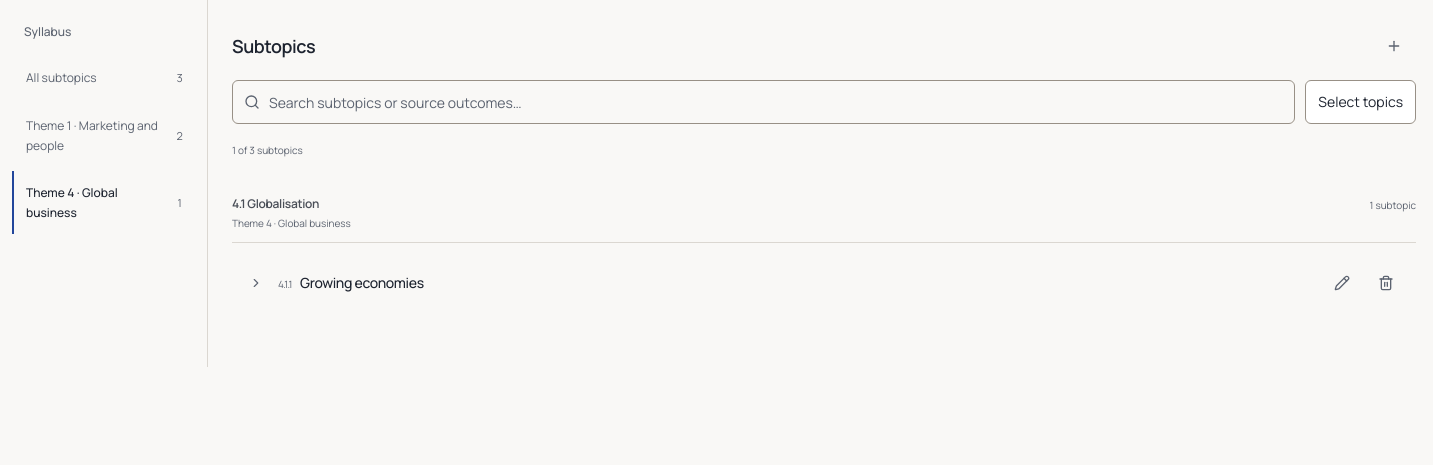
ProfileSubtopicEditor › uses the same view-only group filter in the desktop sidebar and phone select
The image size is (1433, 465).
Earlier steps of the test are not shown.
Expected: the element "Growing economies" is shown, [234,261,1408,305]
Expected: the heading "The market" is not shown
Click the button "Theme 1 · Marketing and people 2": coordinates (104, 136) [12,104,195,167]
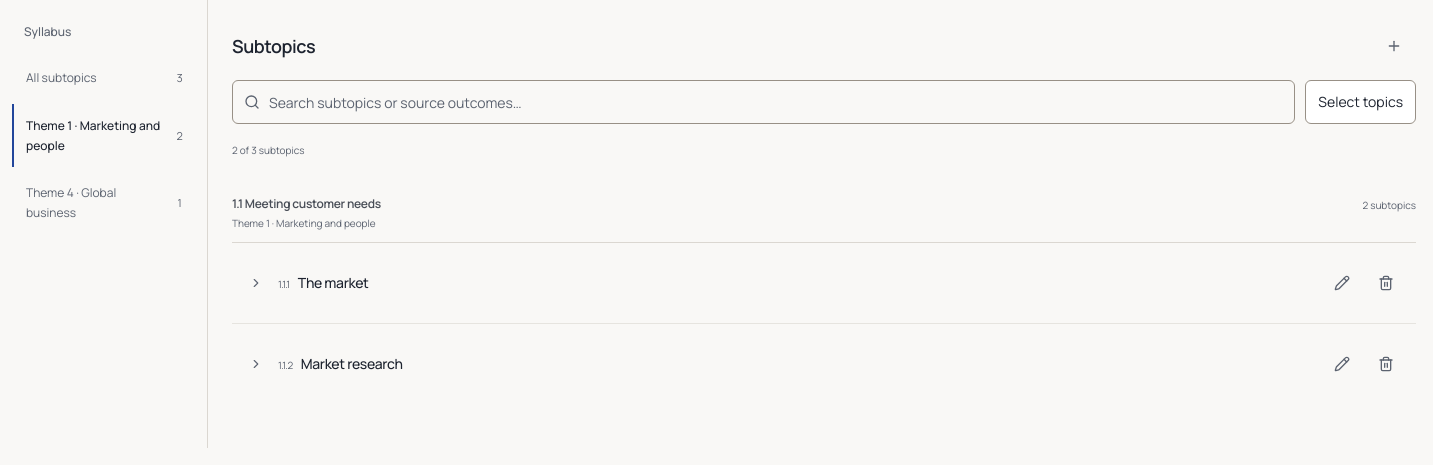
Expected: the element "The market" is shown, [234,261,1408,305]
Expected: the element "Market research" is shown, [234,342,1408,386]
Expected: the heading "Growing economies" is gone
